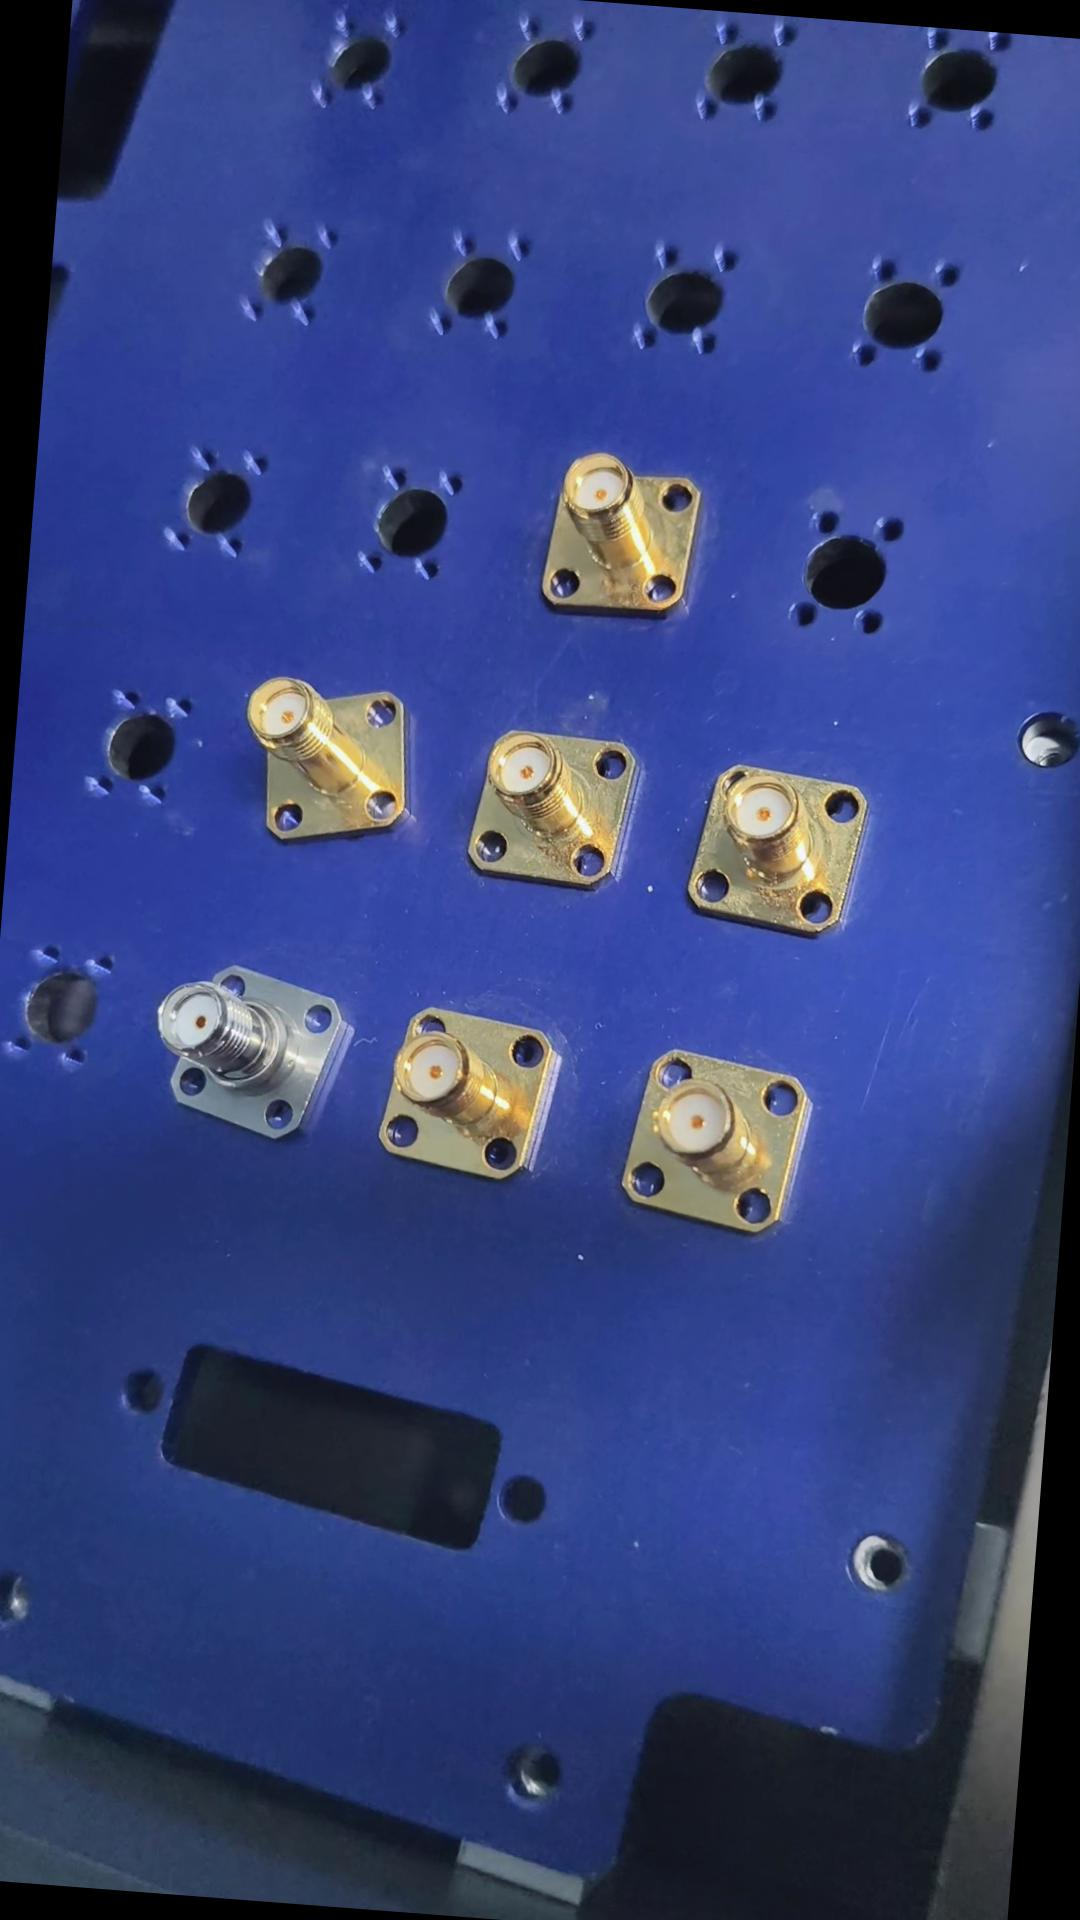SMA: (608, 1042, 814, 1246), (144, 957, 353, 1147), (371, 996, 559, 1187), (680, 756, 872, 934), (231, 674, 417, 853), (527, 448, 709, 621), (462, 723, 644, 895)
